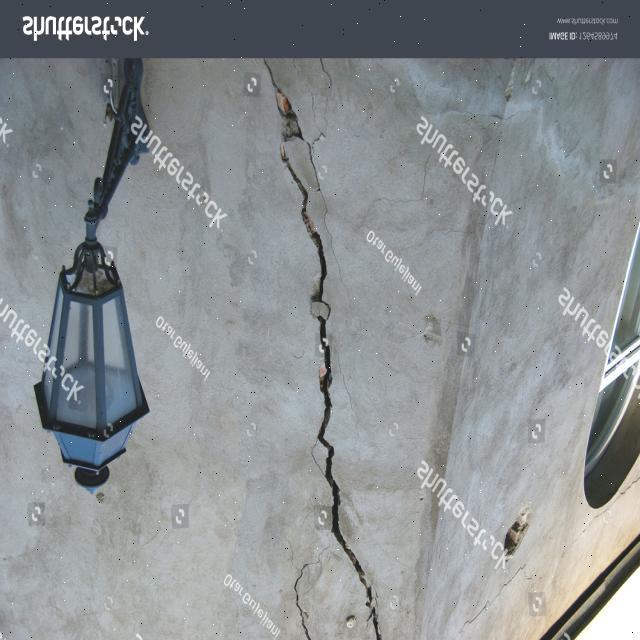crack: (260, 58, 384, 639)
